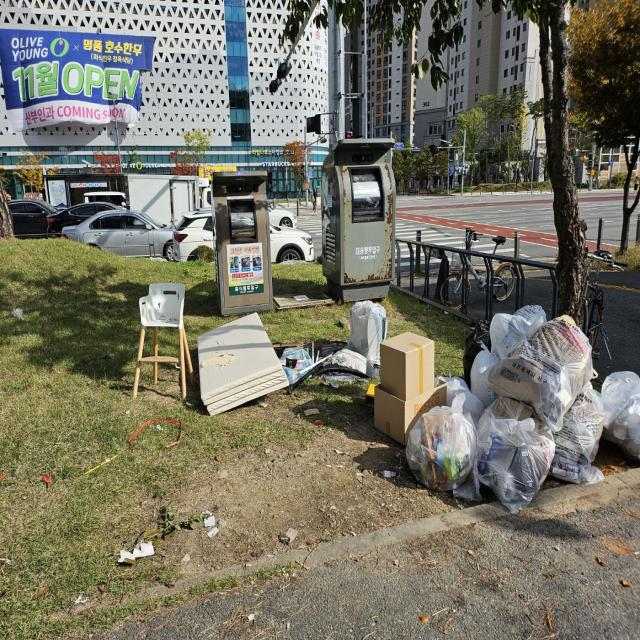CleanNet: (317, 127, 406, 304), (203, 160, 293, 316)
General Waste: (284, 300, 446, 440), (496, 312, 597, 424), (544, 386, 606, 501)
Large Waste Items: (192, 298, 283, 427), (125, 273, 199, 408)
